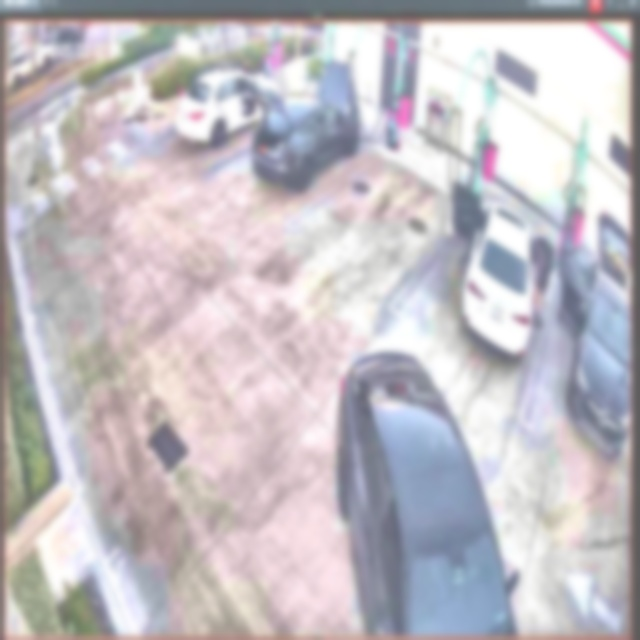Car: (327, 333, 521, 637), (448, 180, 555, 356), (252, 60, 359, 191), (176, 69, 284, 149)
